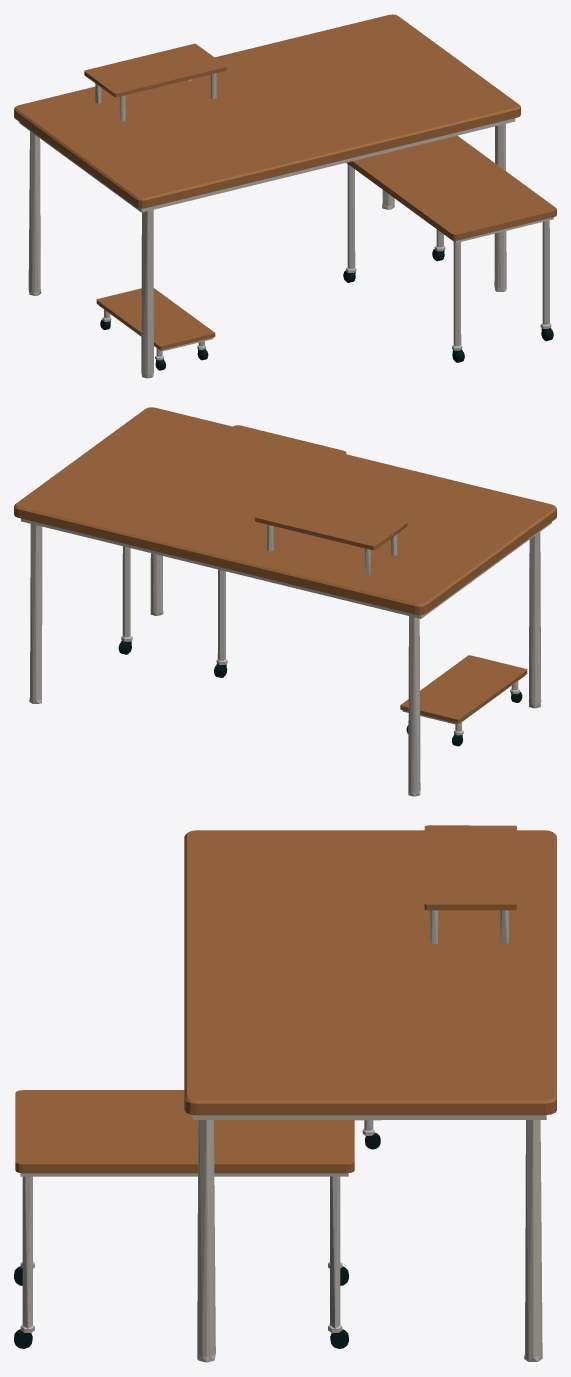
File: desk-by-cmht-oculus-eNaIViK-eKo.glb
3 views of the same model, one above another, from view 1: azimuth 30°, elevation 25°; view 2: azimuth 150°, elevation 25°; view 3: azimuth 270°, elevation 25° (orthographic). The views are drawn at different scales.
Visible parts, largest first — view 1: Node; view 2: Node; view 3: Node.
Boxes of the visible parts, x1,y1,x2,y2 form: Node: (14,14,556,378); Node: (14,407,556,796); Node: (14,825,556,1362).
Size of the model in its own units: 65.9 by 35.44 by 55.59.
